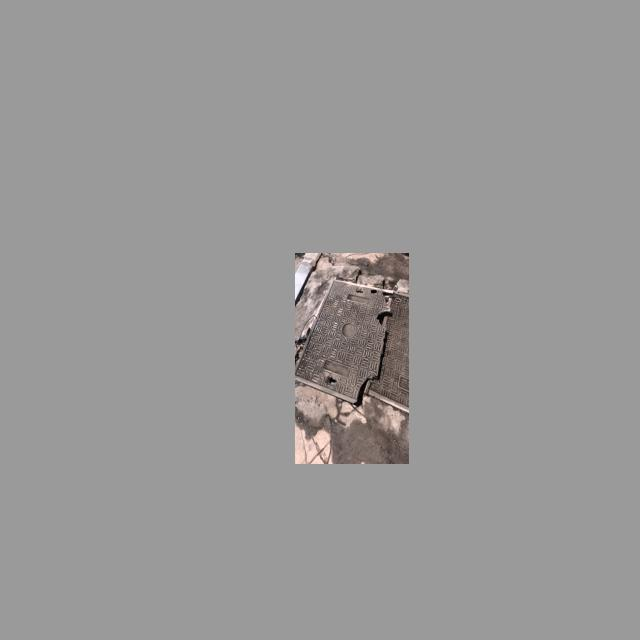broke: (297, 270, 406, 429)
